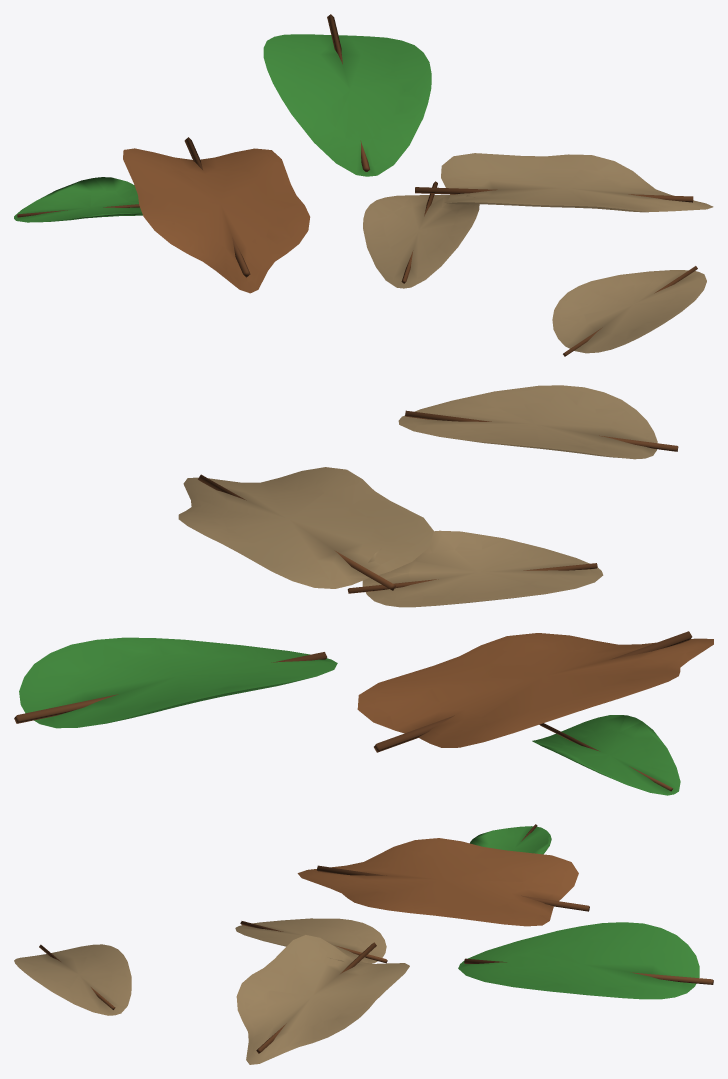
Rendered from glade_gc_leaf_litter_b.glb.
The picture shows the model from 3 angles, top to bottom: view 1: azimuth 30°, elevation 25°; view 2: azimuth 150°, elevation 25°; view 3: azimuth 270°, elevation 25°; orthographic projection. The views are drawn at different scales.
Visible parts, largest first — view 1: glade_gc_leaf_litter_b; view 2: glade_gc_leaf_litter_b; view 3: glade_gc_leaf_litter_b.
Part boxes in pixels (left/top/right/bottom): glade_gc_leaf_litter_b: left=14, top=14, right=713, bottom=356; glade_gc_leaf_litter_b: left=14, top=385, right=713, bottom=795; glade_gc_leaf_litter_b: left=14, top=824, right=713, bottom=1064.
Size of the model in its own units: 3.79 by 0.303 by 4.74.
